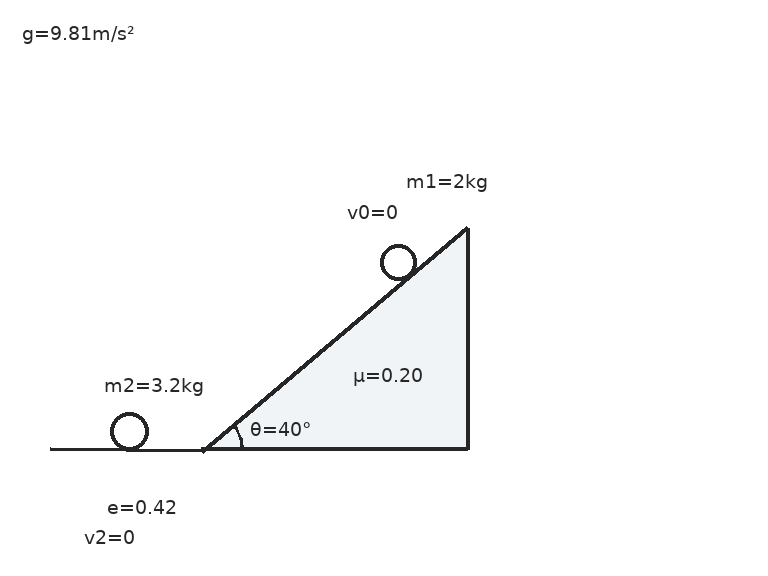ball: (108, 410, 150, 452), (378, 242, 418, 282)
ramp: (200, 226, 469, 452)
